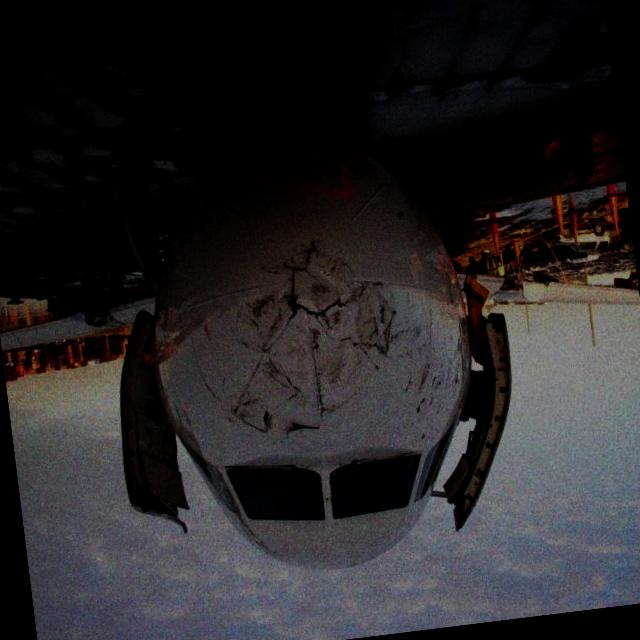crack: (196, 233, 414, 445), (286, 250, 369, 319), (349, 301, 397, 354), (131, 481, 176, 517), (288, 419, 318, 433), (260, 407, 274, 432), (232, 402, 246, 417)
